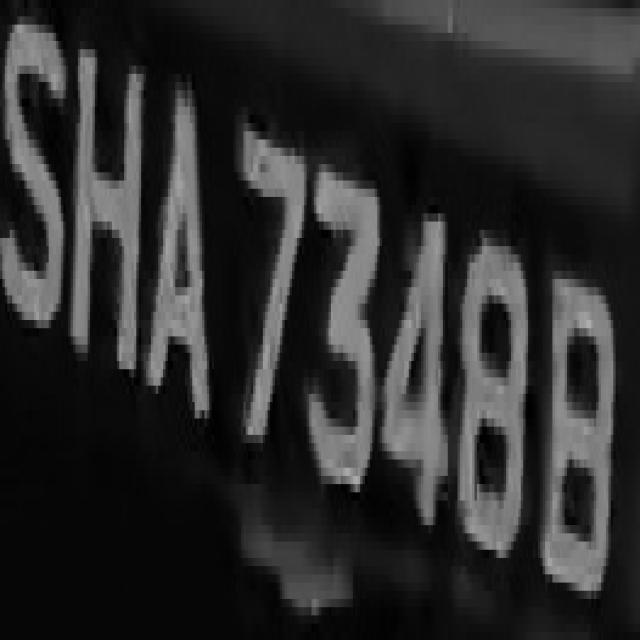3: (314, 132, 382, 500)
4: (374, 148, 452, 550)
7: (234, 66, 312, 476)
8: (455, 180, 535, 574)
A: (134, 58, 224, 443)
B: (535, 238, 618, 632)
H: (63, 8, 146, 386)
S: (5, 16, 68, 353)
